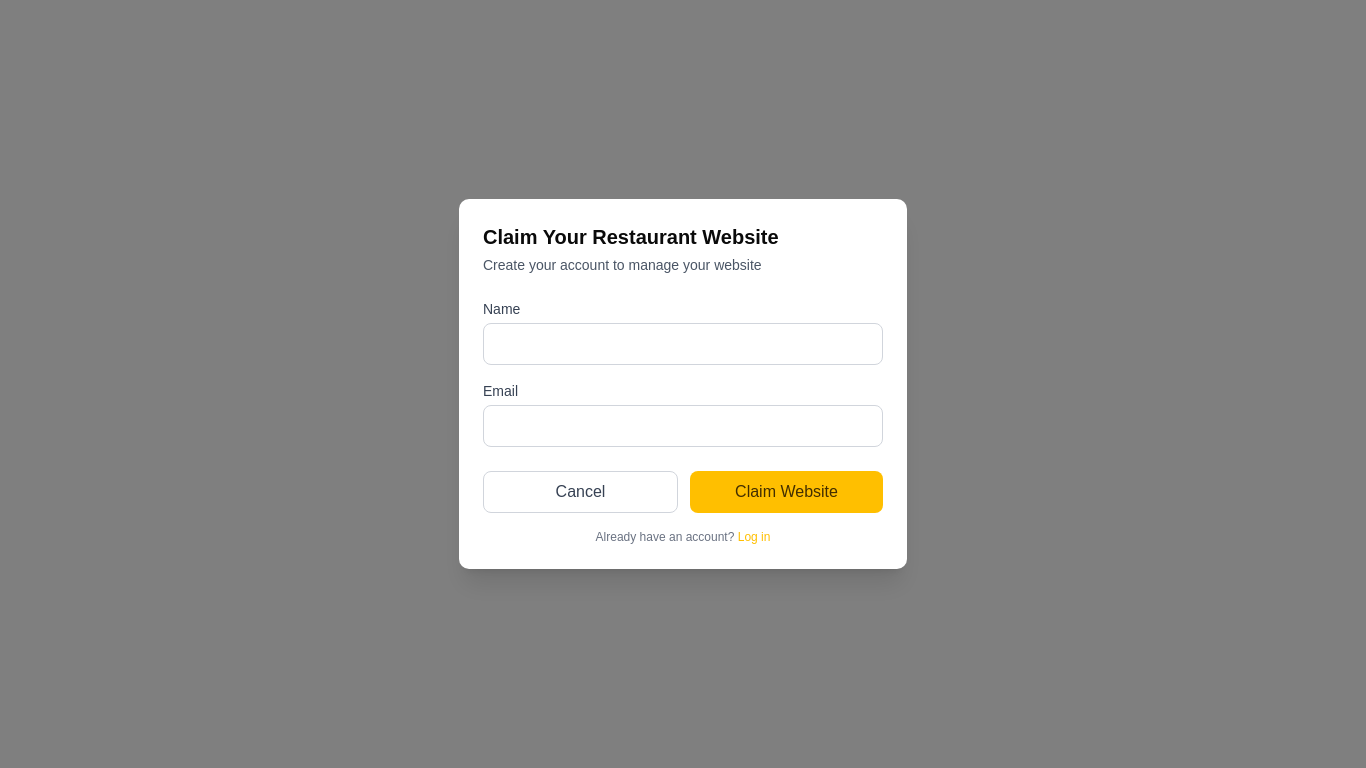
ClaimModal › shows network error when fetch throws
Type "John Doe" into the field below "Name" at (683, 344), box [483,323,883,365]
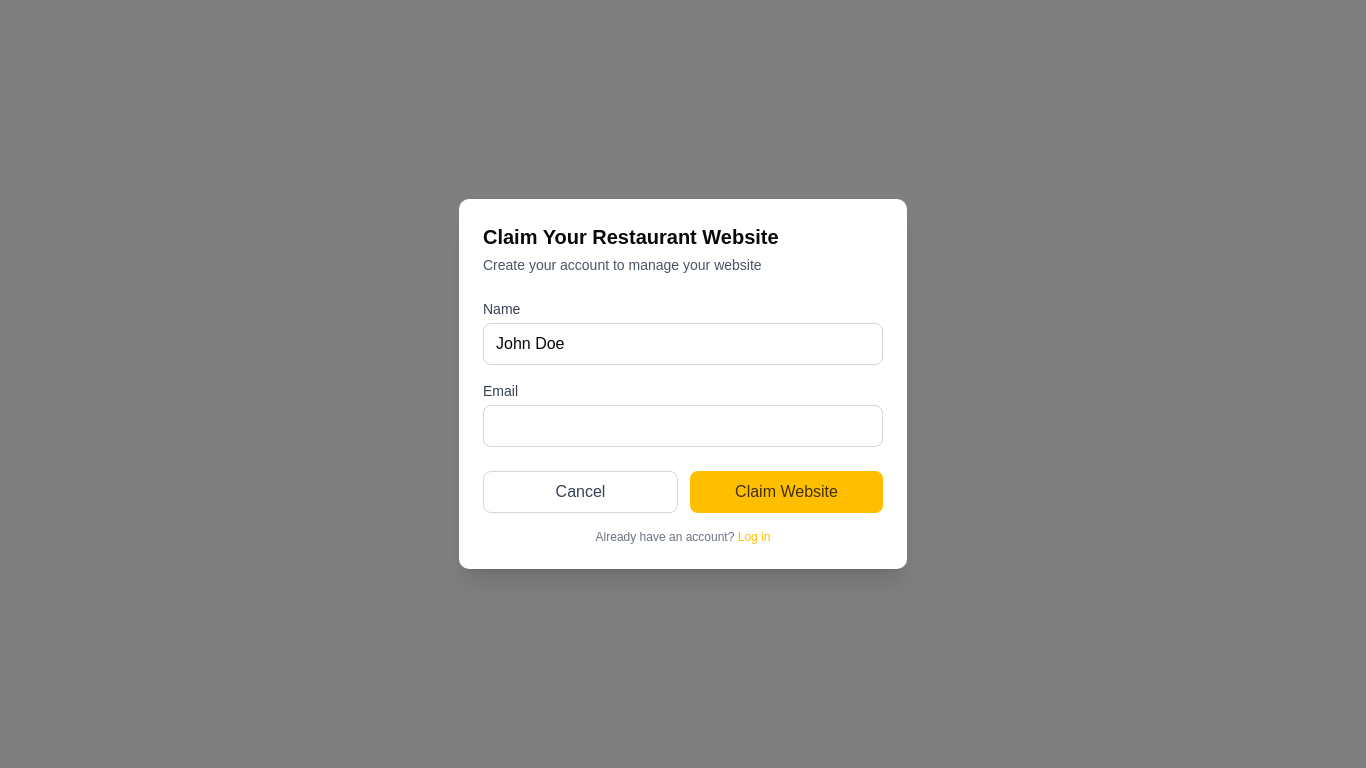
Type "john@test.com" into the field below "Email" at (683, 426), box [483,405,883,447]
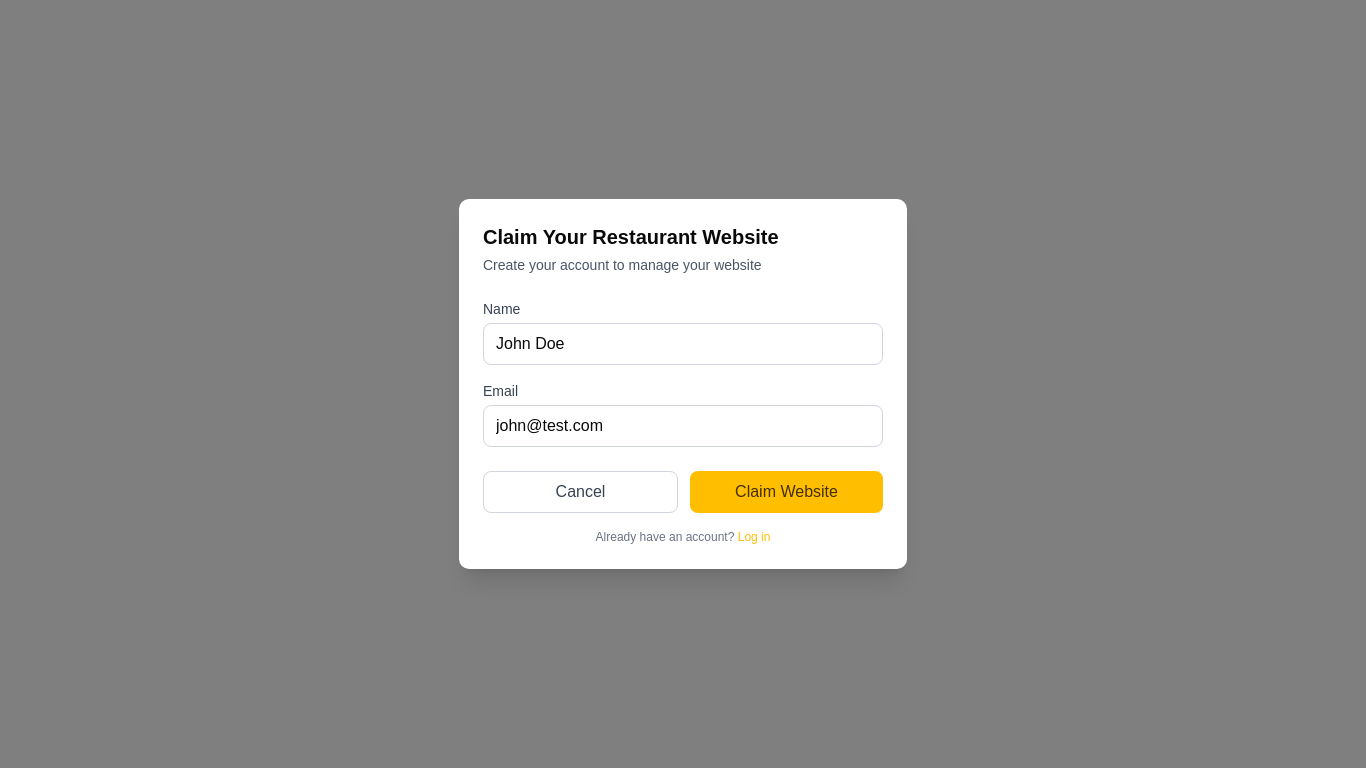
Click the button "Claim Website" at (786, 492), box [690,471,883,513]
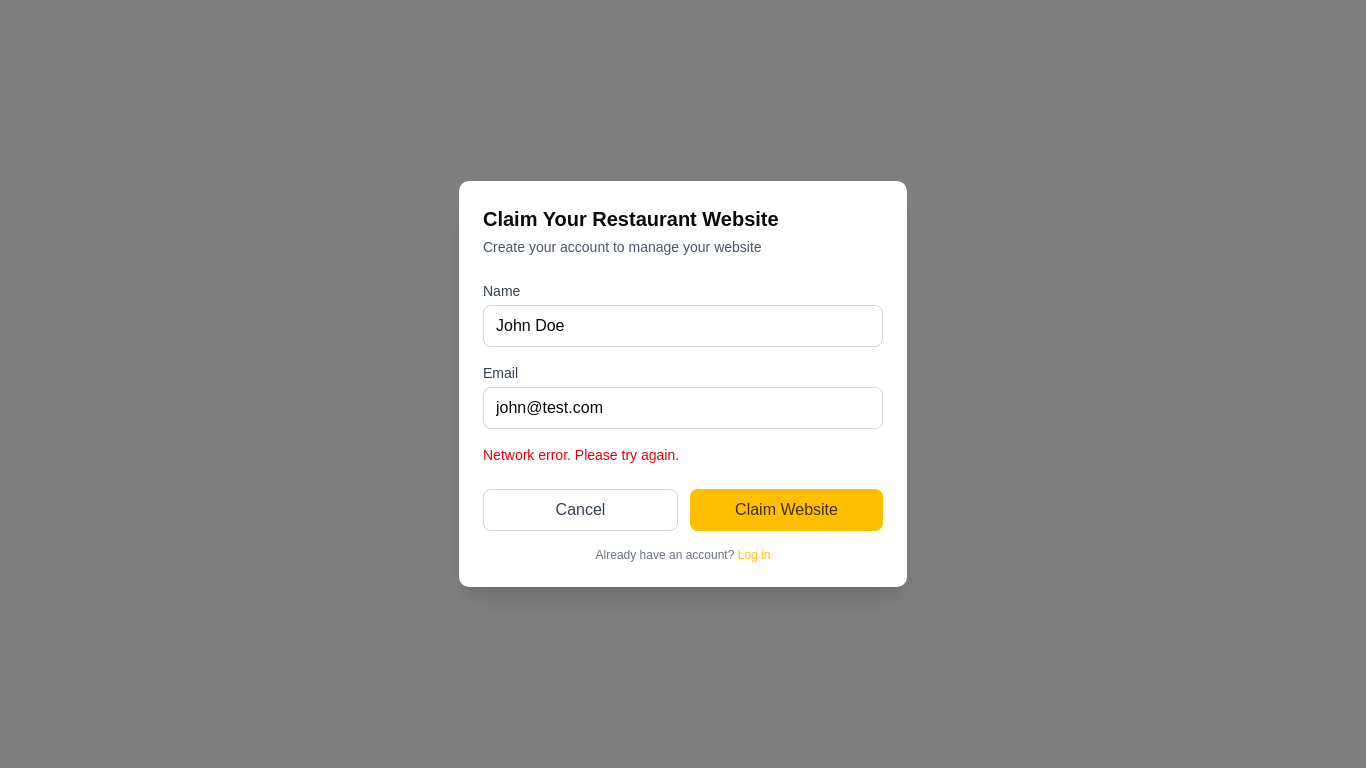
Result: the text "Network error. Please try again." is shown at [483,447,679,463]
